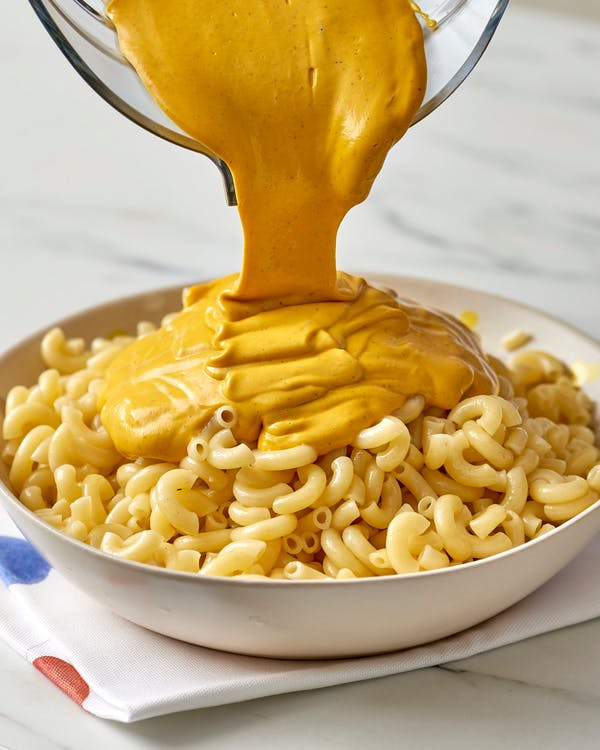macncheese: (188, 437, 497, 629)
